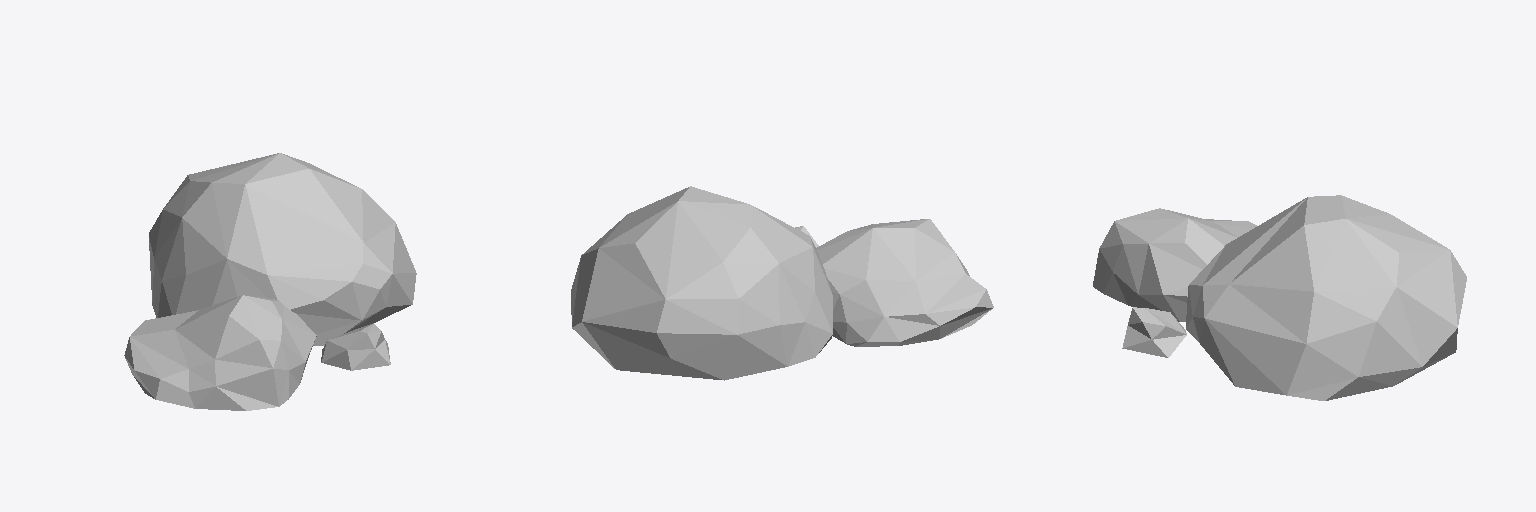
File: rockgroup.obj
The picture shows the model from 3 angles: view 1: azimuth 30°, elevation 25°; view 2: azimuth 150°, elevation 25°; view 3: azimuth 270°, elevation 25°; orthographic projection.
Visible parts, largest first — view 1: Stone_group_average; view 2: Stone_group_average; view 3: Stone_group_average.
Part boxes in pixels (bbox=[...]): Stone_group_average: bbox=[124, 153, 416, 410]; Stone_group_average: bbox=[571, 186, 993, 380]; Stone_group_average: bbox=[1093, 195, 1466, 400].
Size of the model in its own units: 2.94 by 1.11 by 2.9.